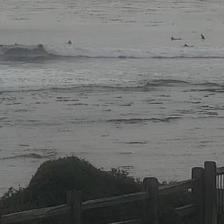surfer: (170, 37, 182, 41), (182, 44, 194, 47), (200, 34, 205, 40), (68, 40, 72, 44)
